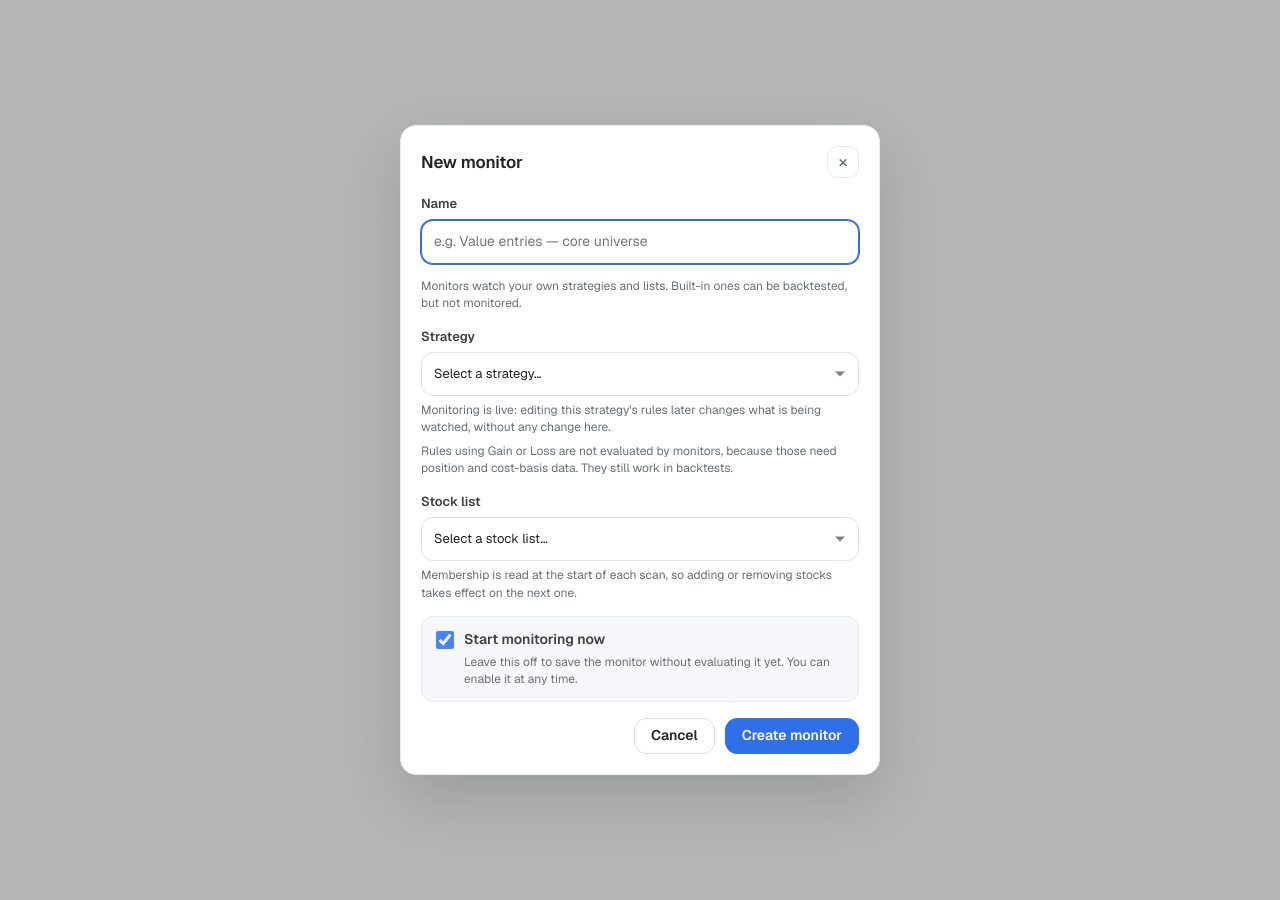
MonitorFormDialog — create › names every missing field instead of submitting
expect the form with test id "monitor-form" is shown: met, box [421,194,859,754]
Click the button with test id "submit-monitor" at (792, 736), box [725,718,859,754]
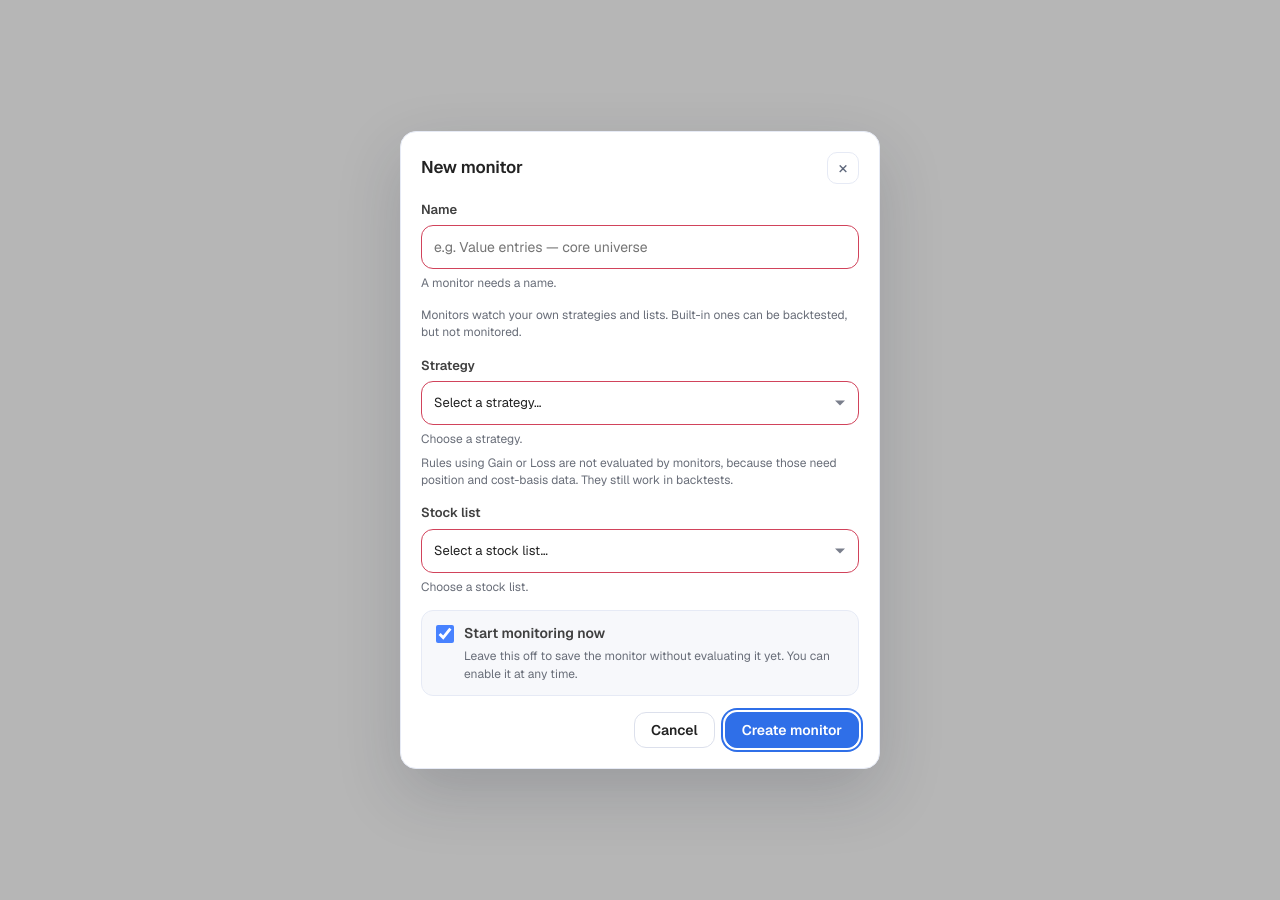
expect the text "A monitor needs a name." is shown: met, box [421,276,556,292]
expect the text "Choose a strategy." is shown: met, box [421,431,522,447]
expect the text "Choose a stock list." is shown: met, box [421,579,528,595]
